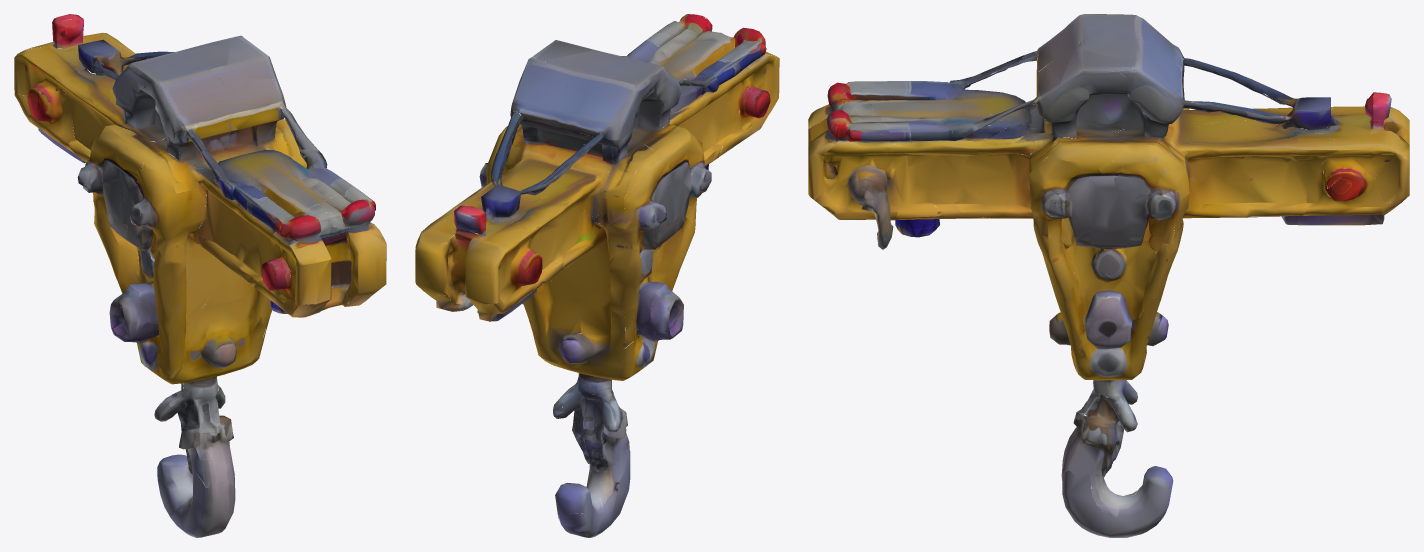
Rendered from env_cargo_gantry_hook_01.glb.
3 renders of one model, left to right at view 1: azimuth 30°, elevation 25°; view 2: azimuth 150°, elevation 25°; view 3: azimuth 270°, elevation 25°, orthographic. The views are drawn at different scales.
Visible parts, largest first — view 1: tripo_node_4e878ab9-7d45-4350-8187-fc265a9823c1; view 2: tripo_node_4e878ab9-7d45-4350-8187-fc265a9823c1; view 3: tripo_node_4e878ab9-7d45-4350-8187-fc265a9823c1.
Boxes of the visible parts, box(x1,y1,x2,y2) form: tripo_node_4e878ab9-7d45-4350-8187-fc265a9823c1: box(14, 14, 386, 537); tripo_node_4e878ab9-7d45-4350-8187-fc265a9823c1: box(415, 14, 779, 537); tripo_node_4e878ab9-7d45-4350-8187-fc265a9823c1: box(808, 14, 1409, 537).
Size of the model in its own units: 0.3687 by 0.9022 by 0.9998.
Materials: 1 (1 with a texture image).
